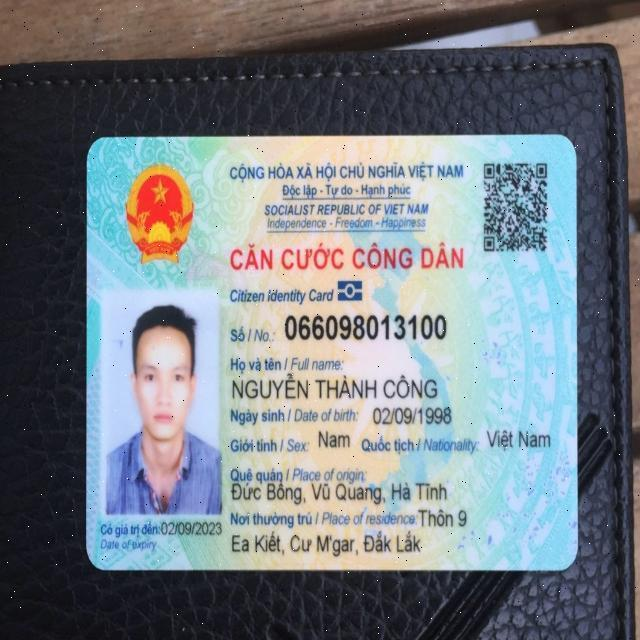current_place: (229, 527, 423, 556), (415, 505, 467, 528)
dob: (369, 398, 452, 430)
expire_date: (159, 517, 225, 539)
gender: (315, 427, 352, 449)
id: (283, 308, 448, 344)
name: (232, 374, 439, 401)
nationality: (483, 425, 552, 450)
origin_place: (227, 480, 450, 504)
